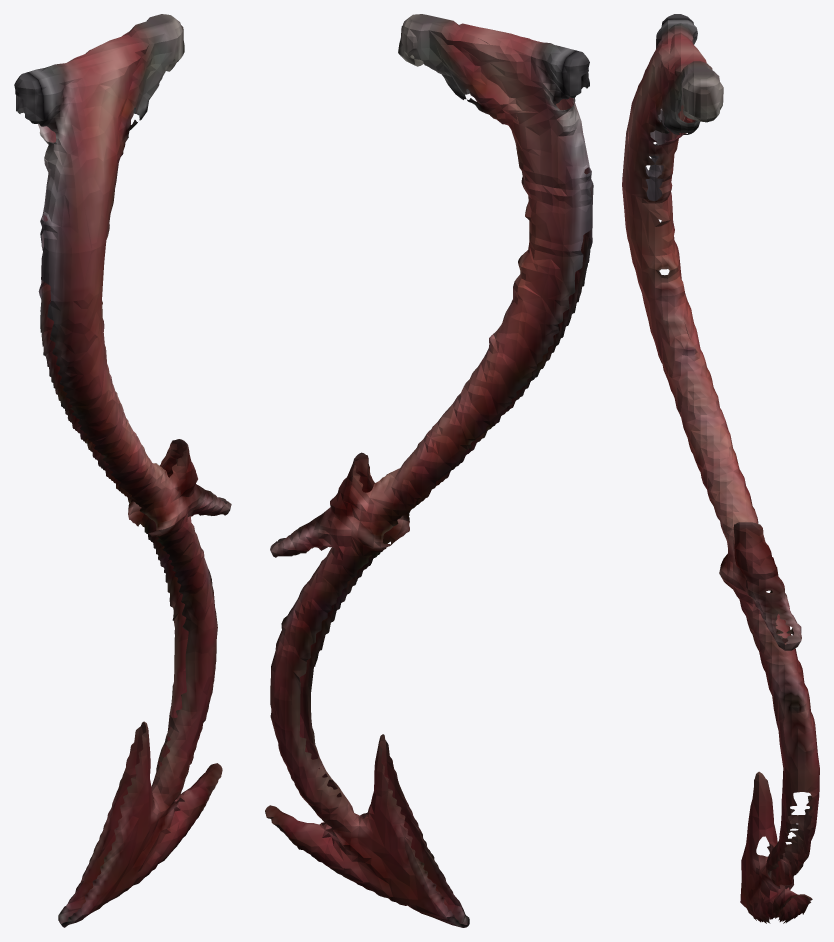
Rendered from deviltail.glb.
The picture shows the model from 3 angles, left to right: view 1: azimuth 30°, elevation 25°; view 2: azimuth 150°, elevation 25°; view 3: azimuth 270°, elevation 25°; orthographic projection. The views are drawn at different scales.
Visible parts, largest first — view 1: geometry_0; view 2: geometry_0; view 3: geometry_0.
Part boxes in pixels (box(x1,y1,x2,y2)): geometry_0: box(14, 14, 231, 927); geometry_0: box(265, 14, 593, 927); geometry_0: box(622, 14, 819, 923).
Bounding box in the file's own units: 0.319 × 1.01 × 0.2077.
1 material, 1 textured.
